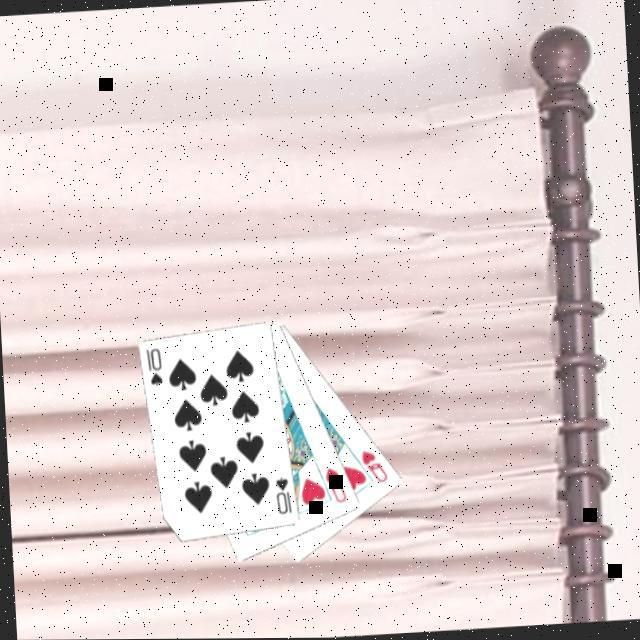10S: (273, 472, 296, 517), (144, 344, 167, 389)
QH: (360, 445, 392, 487), (323, 463, 351, 506)
